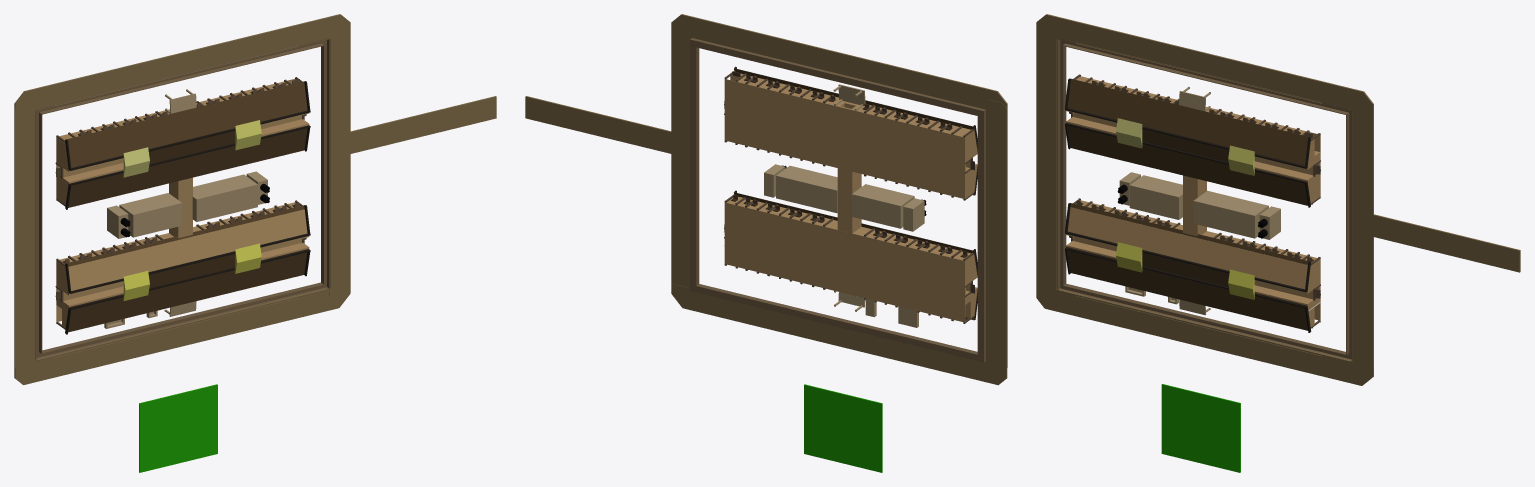
3 views of the same model, side by side, from view 1: azimuth 30°, elevation 25°; view 2: azimuth 150°, elevation 25°; view 3: azimuth 330°, elevation 25° (orthographic).
Visible parts, largest first — view 1: Cube_Cube.019, main_block_1_Cube.004, way.004_Cube.009, way.002_Cube.012, roof_level_4_Cube.030, Cube.003_Cube.006, way.003_Cube.007, way.001_Cube, edge_1_Cube.028, roof_level_3_Cube.033, way_Cube.013, main_block_2_Cube.264 (+15 smaller); view 2: main_block_2_Cube.264, main_block_1_Cube.004, Cube_Cube.019, way.004_Cube.009, way.002_Cube.012, way.003_Cube.007, Cube.003_Cube.006, way.001_Cube, way_Cube.013, mid_4_Cube.017, mid_2_Cube.016, mid_3_Cube.156 (+6 smaller); view 3: Cube_Cube.019, main_block_1_Cube.004, way.004_Cube.009, way.002_Cube.012, roof_level_4_Cube.030, way.001_Cube, Cube.003_Cube.006, way.003_Cube.007, edge_1_Cube.028, roof_level_3_Cube.033, way_Cube.013, main_block_2_Cube.264 (+16 smaller).
Boxes of the visible parts, bbox=[...] form: Cube_Cube.019: bbox=[35, 38, 329, 361]; main_block_1_Cube.004: bbox=[56, 202, 309, 328]; way.004_Cube.009: bbox=[14, 14, 350, 115]; way.002_Cube.012: bbox=[14, 284, 350, 384]; roof_level_4_Cube.030: bbox=[65, 81, 307, 168]; Cube.003_Cube.006: bbox=[139, 384, 217, 472]; way.003_Cube.007: bbox=[14, 108, 35, 372]; way.001_Cube: bbox=[329, 26, 350, 296]; edge_1_Cube.028: bbox=[65, 249, 308, 332]; roof_level_3_Cube.033: bbox=[65, 128, 307, 207]; way_Cube.013: bbox=[350, 96, 496, 153]; main_block_2_Cube.264: bbox=[56, 79, 309, 205]; main_block_2_Cube.264: bbox=[724, 73, 977, 198]; main_block_1_Cube.004: bbox=[724, 196, 977, 322]; Cube_Cube.019: bbox=[690, 38, 985, 362]; way.004_Cube.009: bbox=[671, 14, 1007, 109]; way.002_Cube.012: bbox=[671, 283, 1007, 385]; way.003_Cube.007: bbox=[985, 99, 1007, 369]; Cube.003_Cube.006: bbox=[804, 384, 882, 472]; way.001_Cube: bbox=[671, 23, 692, 287]; way_Cube.013: bbox=[525, 96, 689, 158]; mid_4_Cube.017: bbox=[776, 165, 837, 213]; mid_2_Cube.016: bbox=[851, 184, 914, 228]; mid_3_Cube.156: bbox=[837, 168, 861, 233]; Cube_Cube.019: bbox=[1057, 38, 1352, 362]; main_block_1_Cube.004: bbox=[1066, 200, 1320, 327]; way.004_Cube.009: bbox=[1036, 14, 1373, 116]; way.002_Cube.012: bbox=[1036, 285, 1373, 385]; roof_level_4_Cube.030: bbox=[1067, 78, 1310, 165]; way.001_Cube: bbox=[1352, 99, 1373, 372]; Cube.003_Cube.006: bbox=[1161, 384, 1240, 472]; way.003_Cube.007: bbox=[1036, 34, 1057, 295]; edge_1_Cube.028: bbox=[1066, 247, 1307, 330]; roof_level_3_Cube.033: bbox=[1067, 126, 1307, 205]; way_Cube.013: bbox=[1354, 211, 1520, 272]; main_block_2_Cube.264: bbox=[1066, 76, 1320, 203].
Bounding box in the file's own units: 39.27 × 31.91 × 2.59.
